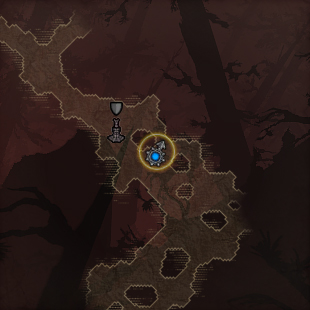Guardian2: (137, 132, 176, 171)
